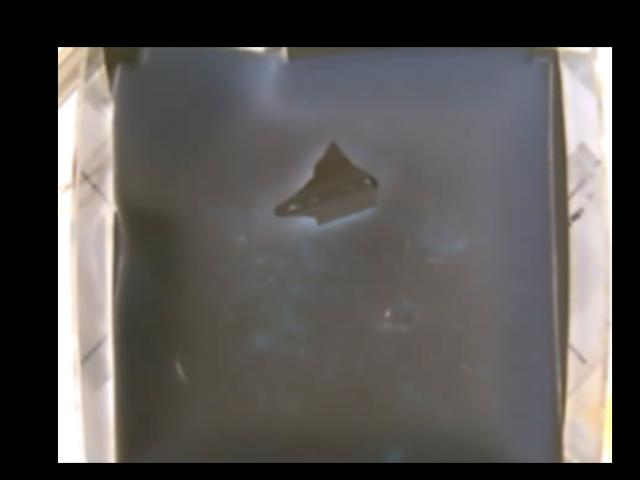China: (273, 142, 380, 228)
